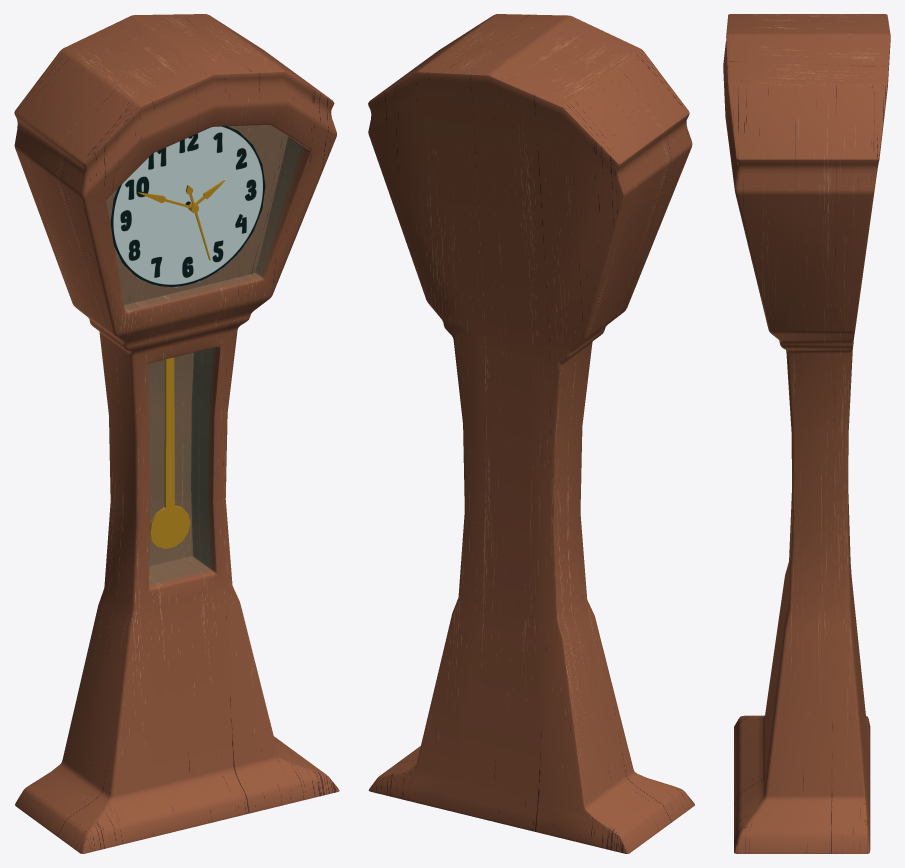
Rendered from Grandfather_Clock.fbx.
3 renders of one model, left to right at view 1: azimuth 30°, elevation 25°; view 2: azimuth 150°, elevation 25°; view 3: azimuth 270°, elevation 25°, orthographic.
Parts seen in each view (by area): view 1: ClockBody, GlassClockFace, Clock_Face, GlassPane, Pengelum; view 2: ClockBody; view 3: ClockBody.
Boxes of the visible parts, left/top/right/bottom form: ClockBody: left=14, top=14, right=339, bottom=853; GlassClockFace: left=107, top=125, right=301, bottom=309; Clock_Face: left=110, top=126, right=265, bottom=287; GlassPane: left=148, top=348, right=212, bottom=583; Pengelum: left=150, top=357, right=190, bottom=548; ClockBody: left=368, top=14, right=694, bottom=853; ClockBody: left=723, top=14, right=890, bottom=853.
Size of the model in its own units: 56.02 by 156 by 31.26.
4 materials, 2 textured.
